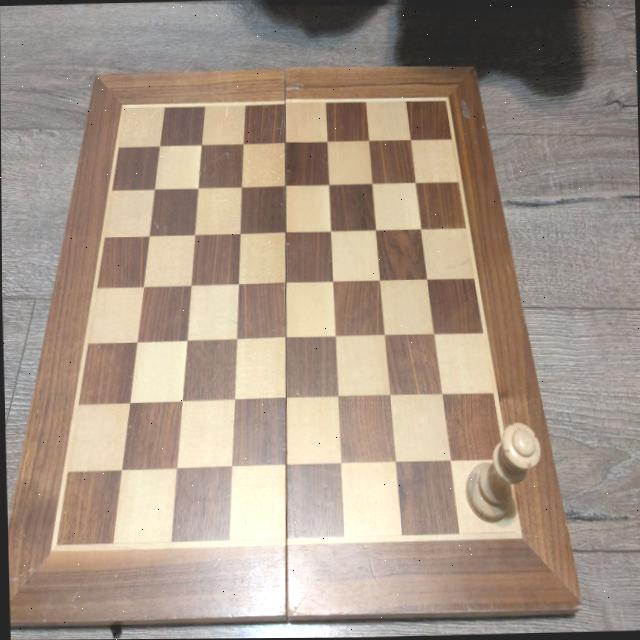white_queen: (462, 419, 541, 522)
